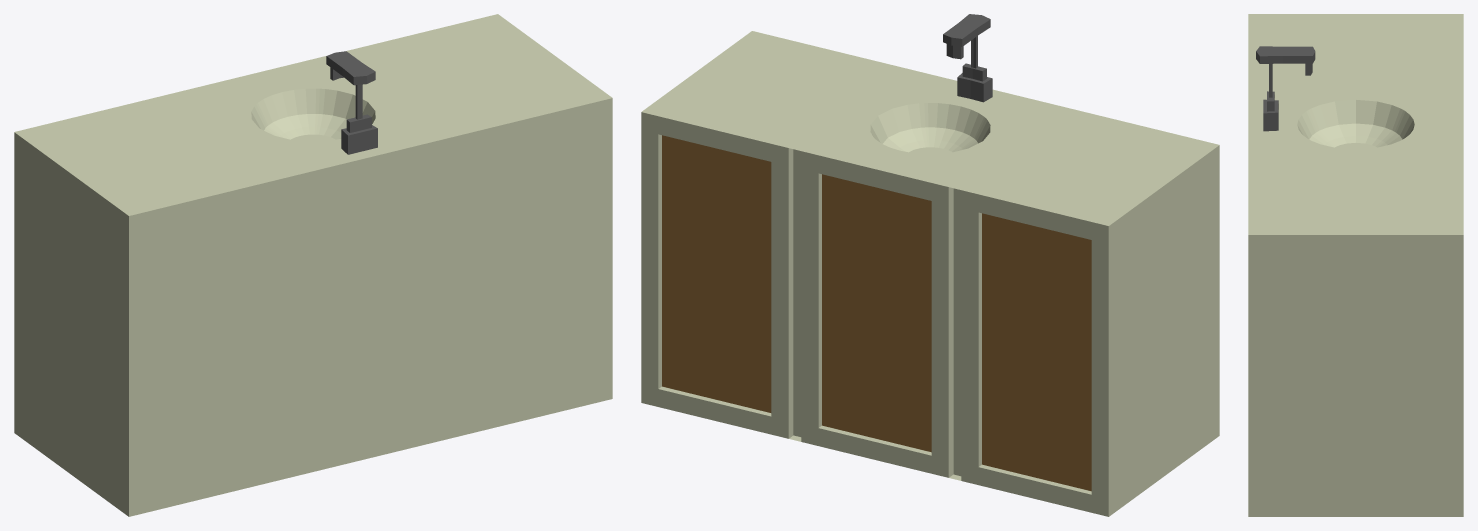
File: WCSink_Material.fbx
3 renders of one model, left to right at view 1: azimuth 30°, elevation 25°; view 2: azimuth 150°, elevation 25°; view 3: azimuth 270°, elevation 25°, orthographic. The views are drawn at different scales.
Parts seen in each view (by area): view 1: WC Sink; view 2: WC Sink; view 3: WC Sink.
Boxes of the visible parts, x1,y1,x2,y2 form: WC Sink: (14, 14, 612, 516); WC Sink: (641, 14, 1219, 516); WC Sink: (1248, 14, 1463, 516).
Size of the model in its own units: 1.13 by 0.8444 by 0.4635.
